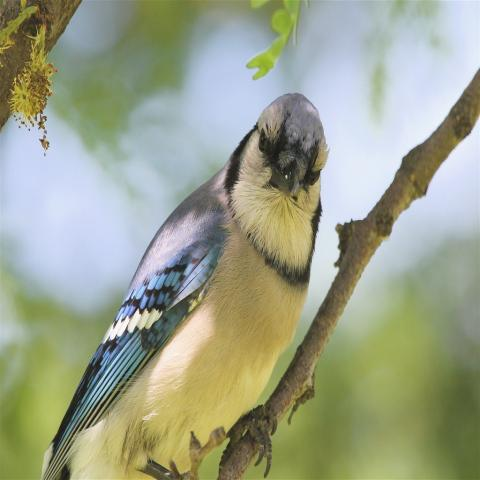bird: (39, 90, 330, 477)
